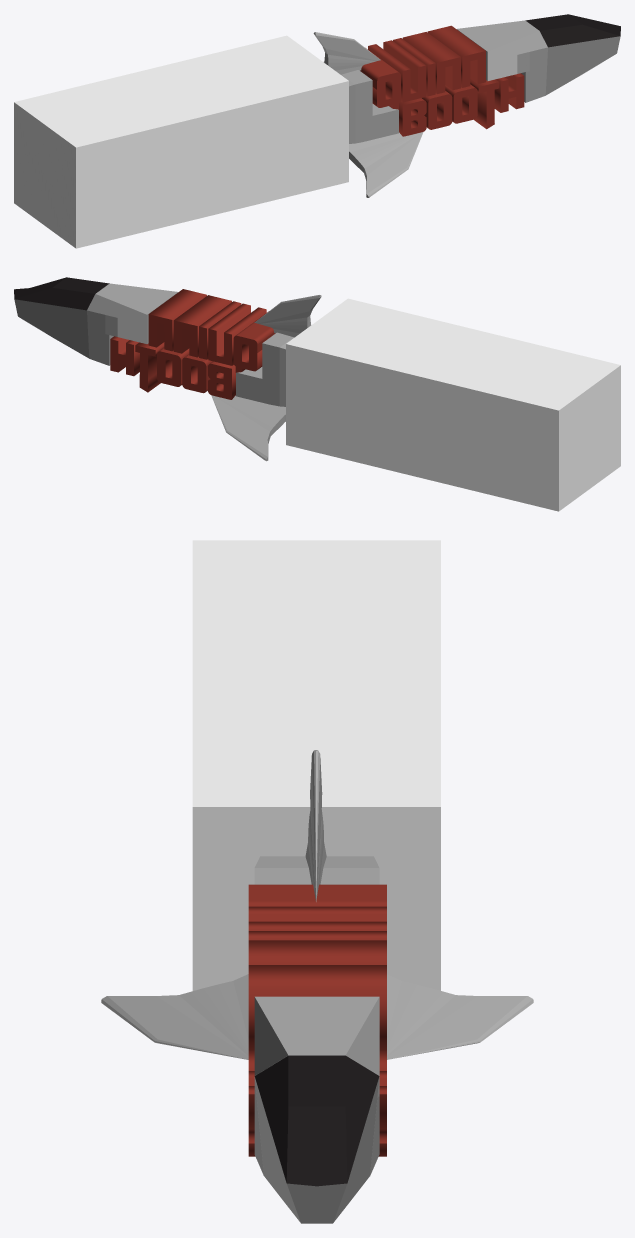
File: spaceship2.glb
3 views of the same model, one above another, from view 1: azimuth 30°, elevation 25°; view 2: azimuth 150°, elevation 25°; view 3: azimuth 270°, elevation 25° (orthographic). The views are drawn at different scales.
Visible parts, largest first — view 1: Cube.004, Text, Text.001, Cube, Cone.001, Cube.001, Cube.002, Cube.003, Cone; view 2: Cube.004, Text, Text.001, Cube, Cone.003, Cube.001, Cube.002, Cube.003, Cone; view 3: Cube.004, Text, Cube.003, Cube, Cone.001, Cone.003, Cube.002, Cube.001, Cone, Text.001.
Part boxes in pixels (<box>): Cube.004: <box>14,35,348,248</box>; Text: <box>360,25,485,109</box>; Text.001: <box>399,73,524,136</box>; Cube: <box>456,20,547,102</box>; Cone.001: <box>349,132,423,197</box>; Cube.001: <box>323,62,398,143</box>; Cube.002: <box>545,36,620,95</box>; Cube.003: <box>525,14,620,47</box>; Cone: <box>313,32,380,74</box>; Cube.004: <box>286,298,620,511</box>; Text: <box>148,289,275,372</box>; Text.001: <box>110,336,235,399</box>; Cube: <box>87,283,178,365</box>; Cone.003: <box>211,395,285,461</box>; Cube.001: <box>236,325,311,406</box>; Cube.002: <box>14,299,89,358</box>; Cube.003: <box>14,277,109,310</box>; Cone: <box>254,295,321,337</box>; Cube.004: <box>192,540,440,990</box>; Text: <box>248,884,386,1050</box>; Cube.003: <box>254,1055,379,1186</box>; Cube: <box>254,996,379,1175</box>; Cone.001: <box>101,974,248,1059</box>; Cone.003: <box>387,974,533,1059</box>; Cube.002: <box>255,1077,379,1223</box>; Cube.001: <box>254,856,379,884</box>; Cone: <box>305,750,326,901</box>; Text.001: <box>248,1050,386,1156</box>.
Bounding box in the file's own units: 18.76 × 3.98 × 6.1.
